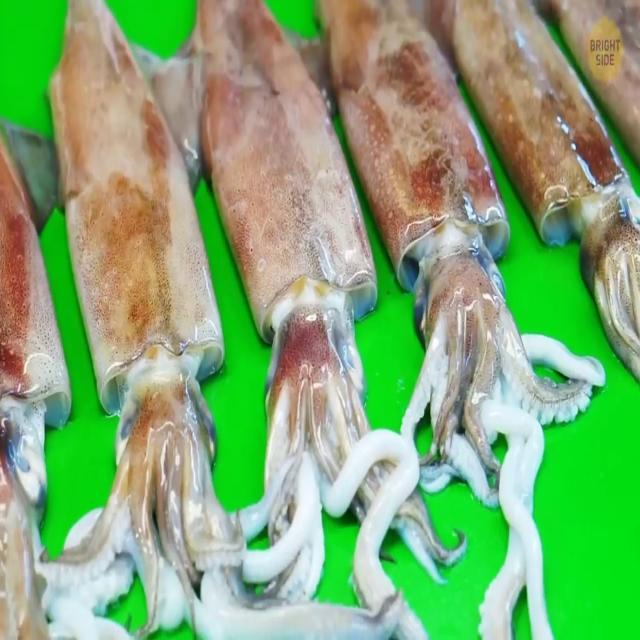squid: (316, 0, 608, 640), (194, 0, 378, 640), (45, 0, 228, 640), (453, 0, 640, 386)
